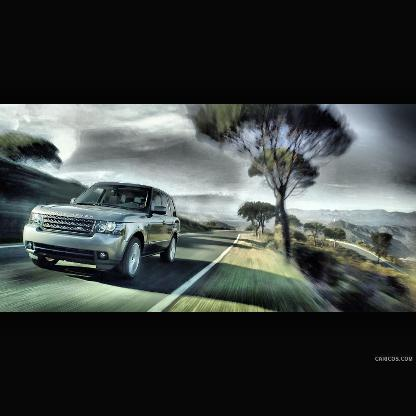Land Rover Range Rover SUV 2012: (23, 183, 181, 282)
